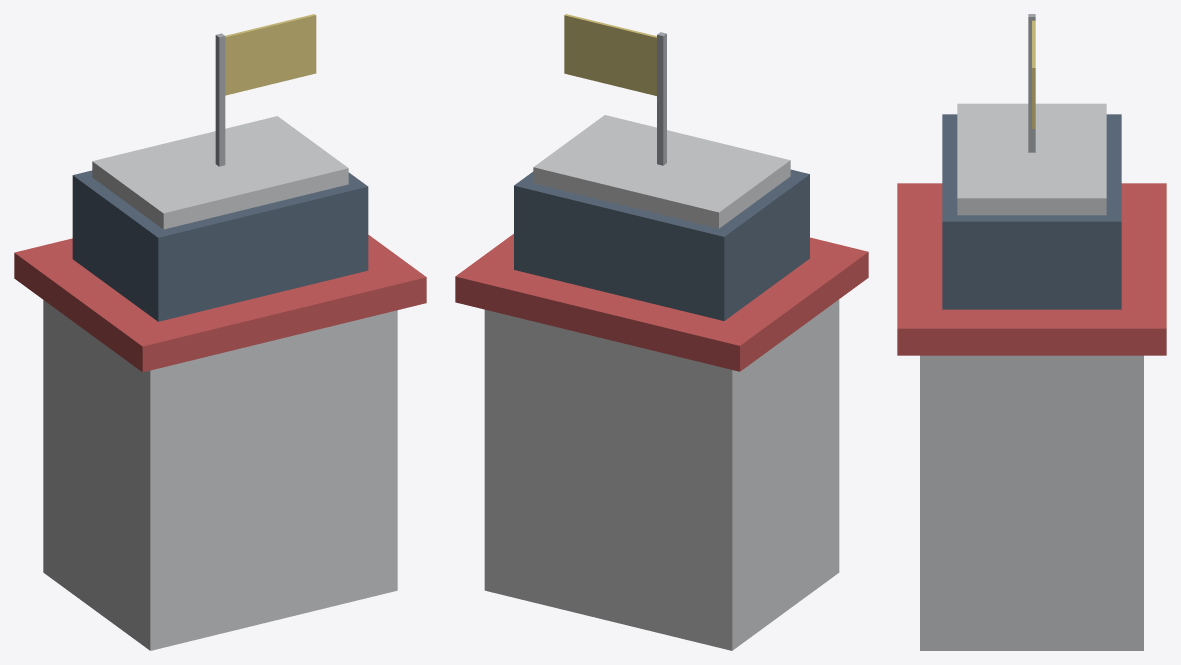
File: tower.glb
3 renders of one model, left to right at view 1: azimuth 30°, elevation 25°; view 2: azimuth 150°, elevation 25°; view 3: azimuth 270°, elevation 25°, orthographic. The views are drawn at different scales.
Visible parts, largest first — view 1: tower; view 2: tower; view 3: tower.
Part boxes in pixels (<box>): tower: <box>14,14,426,650</box>; tower: <box>455,14,868,650</box>; tower: <box>897,14,1166,650</box>.
Bounding box in the file's own units: 5.75 × 10.56 × 4.5.
